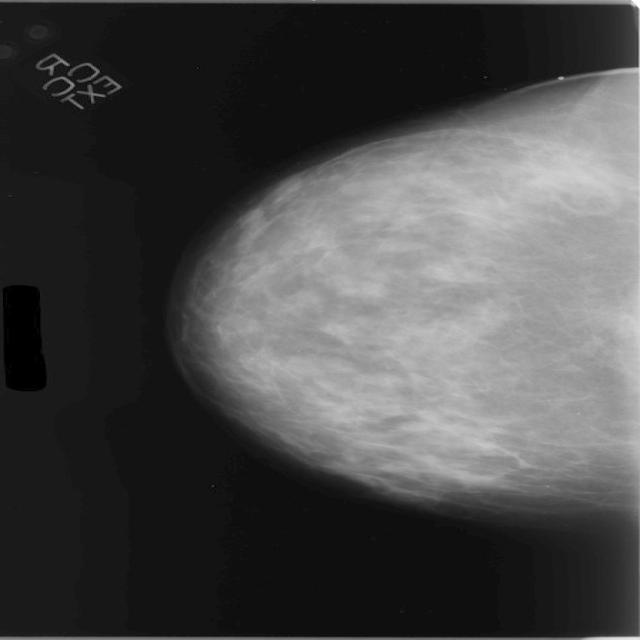tumour: (516, 158, 636, 198)
